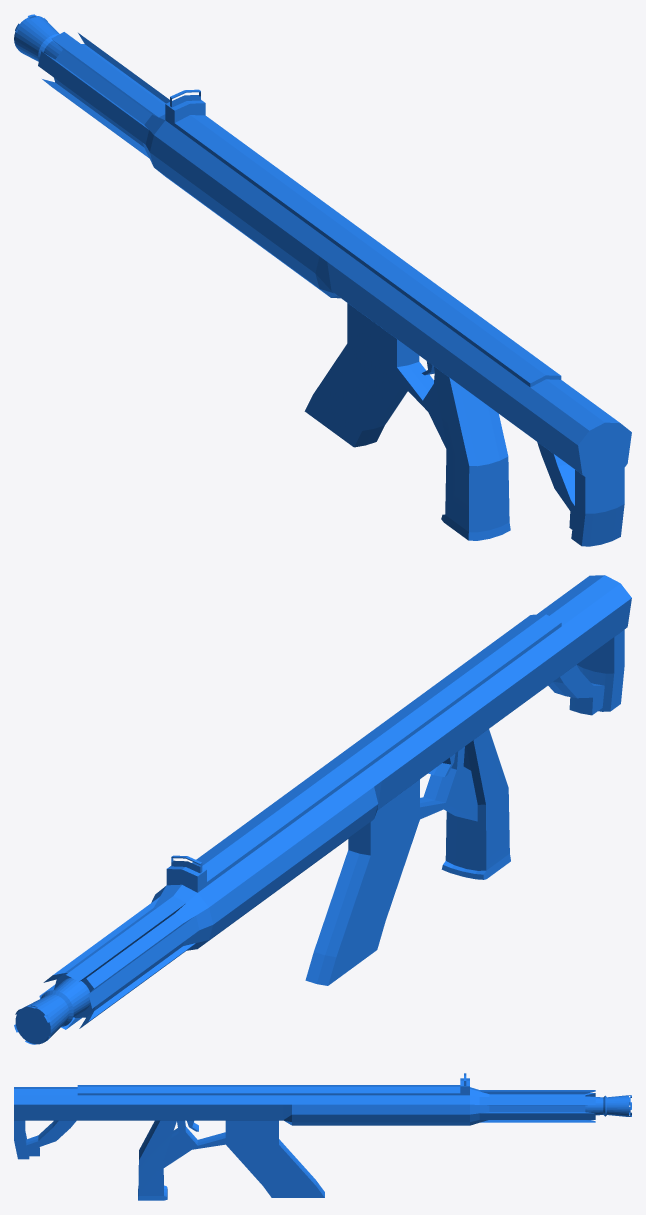
3 views of the same model, one above another, from view 1: azimuth 30°, elevation 25°; view 2: azimuth 150°, elevation 25°; view 3: azimuth 270°, elevation 25° (orthographic). The views are drawn at different scales.
Visible parts, largest first — view 1: Cylinder.001; view 2: Cylinder.001; view 3: Cylinder.001.
Boxes of the visible parts, x1=… form: Cylinder.001: x1=14, y1=14, x2=631, y2=546; Cylinder.001: x1=14, y1=575, x2=631, y2=1044; Cylinder.001: x1=14, y1=1073, x2=631, y2=1200.
Size of the model in its own units: 23.32 by 80.66 by 373.
